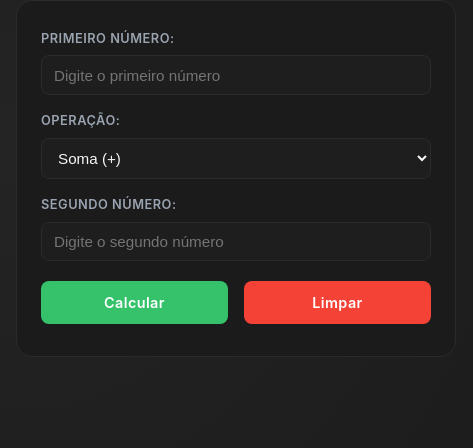
CalculatorComponent - Testes de Fluxo de Controle › Caminho 3B → 4A: Operação Adição › deve seguir caminho de adição bem-sucedida
Type "5" into the field with test id "num1-input" at x=236, y=75, box top-left (41, 55), bottom-right (431, 95)
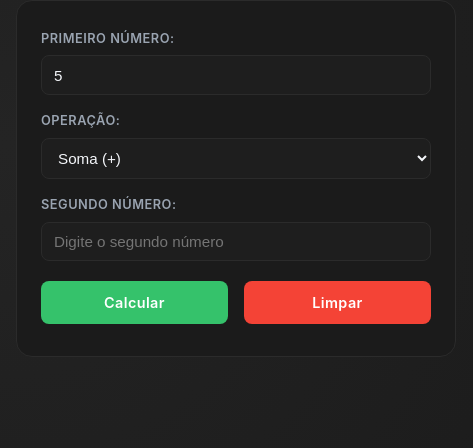
Type "3" into the field with test id "num2-input" at x=236, y=242, box top-left (41, 222), bottom-right (431, 262)
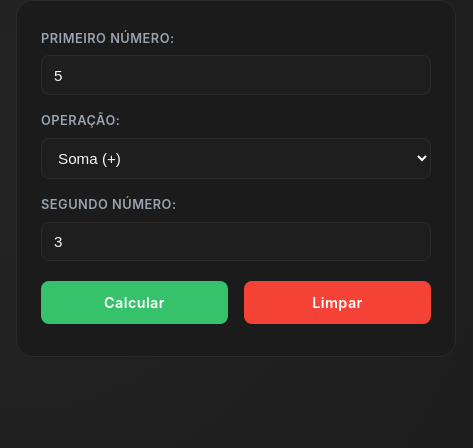
Select "Soma (+)" in the dropdown with test id "operation-select" at x=236, y=158, box top-left (41, 138), bottom-right (431, 179)
Click the button with test id "calculate-button" at x=134, y=303, box top-left (41, 282), bottom-right (228, 324)
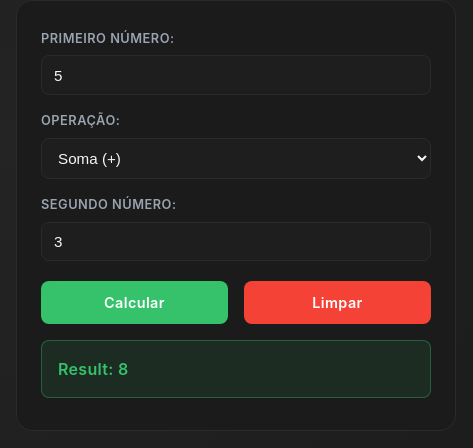
expect the text with test id "result" reads "Result: 8": met, box top-left (41, 340), bottom-right (431, 398)
